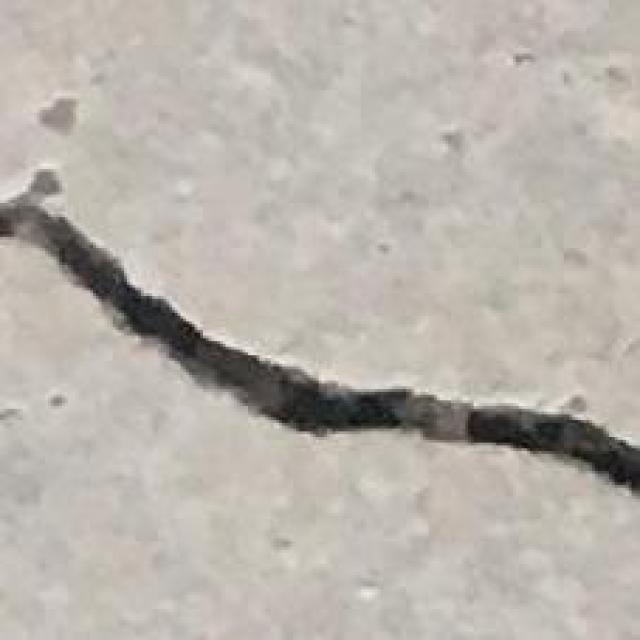Crack: (0, 214, 632, 519)
